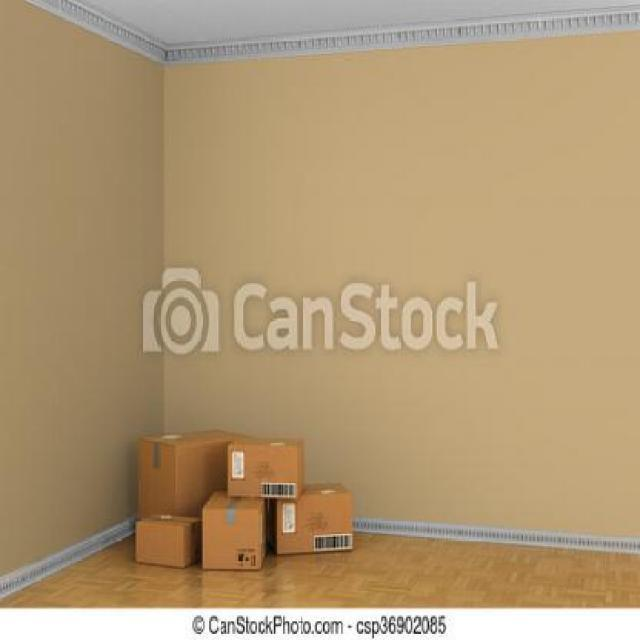box: (135, 424, 242, 524), (270, 483, 361, 553), (201, 489, 276, 571), (225, 437, 312, 503), (131, 513, 198, 570)
